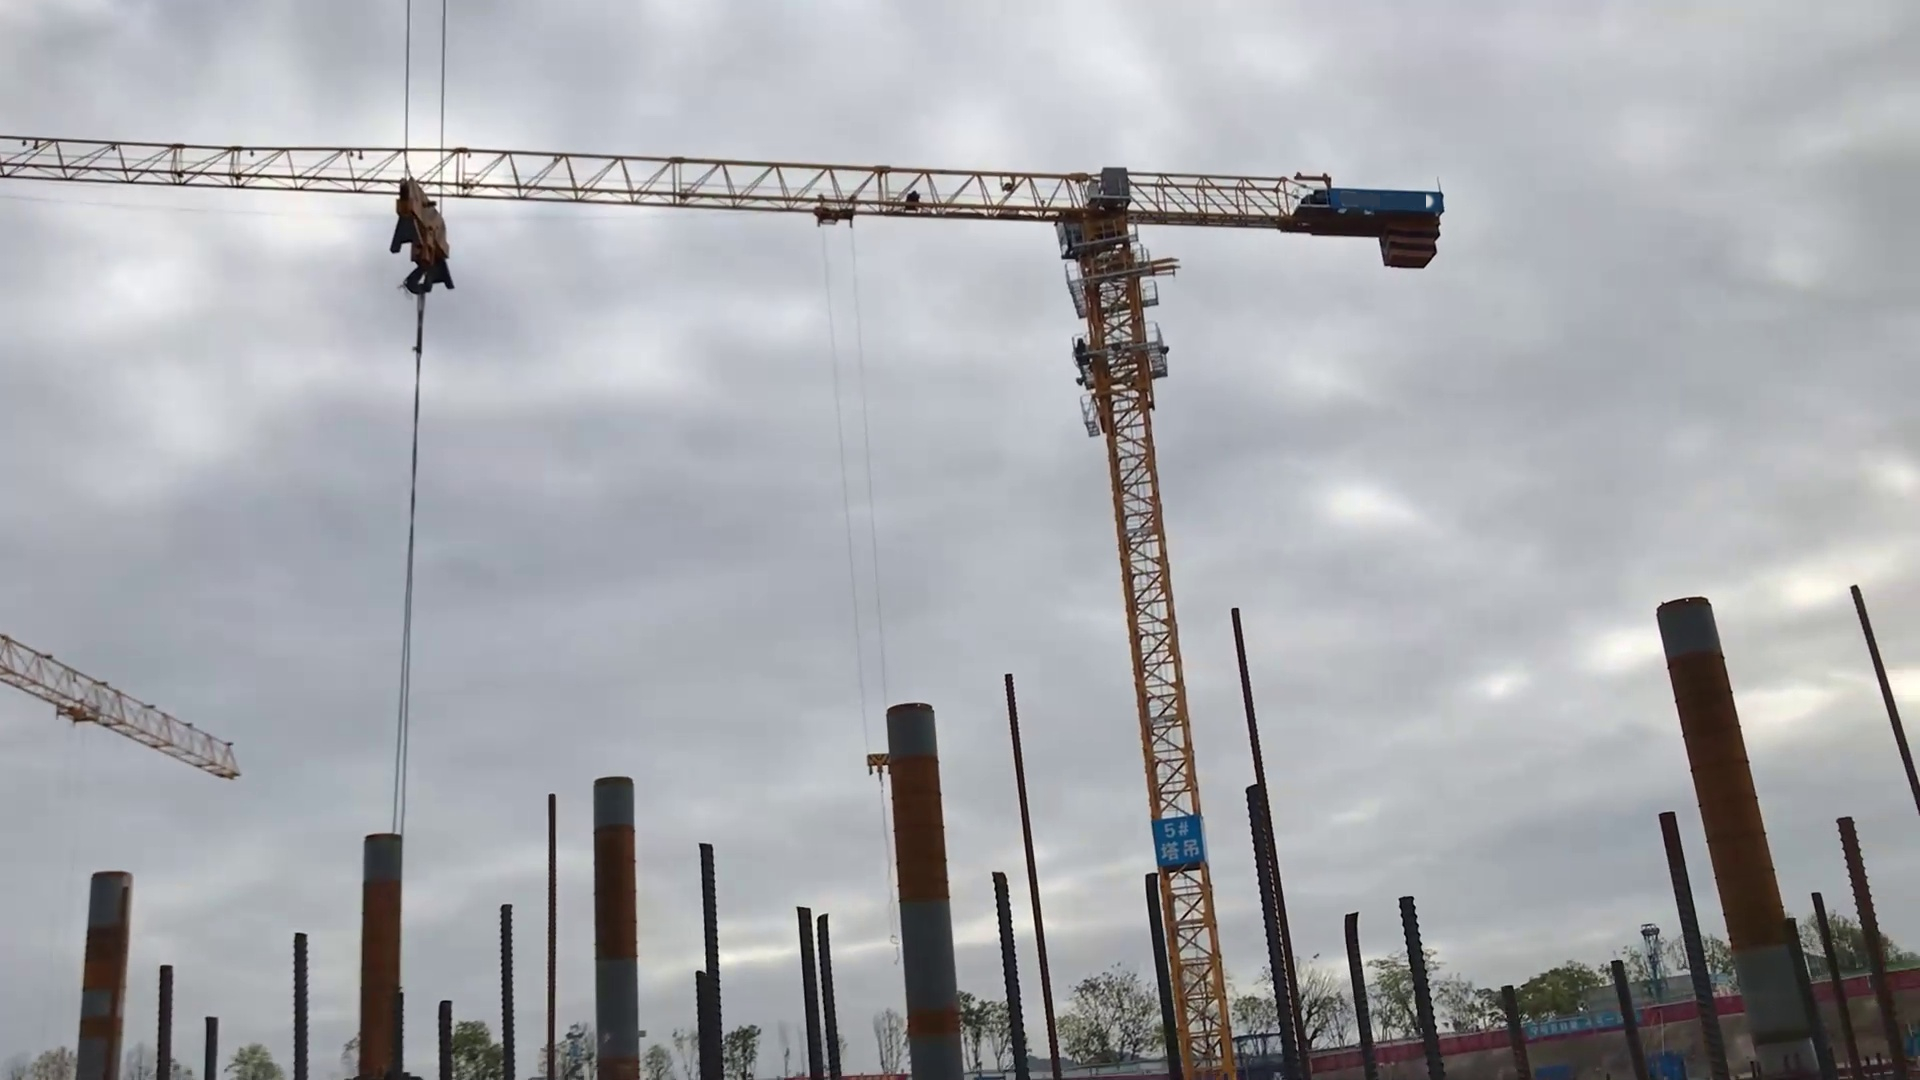hook: (365, 174, 476, 305), (862, 749, 894, 781)
slogan: (1147, 814, 1211, 872), (1527, 1015, 1647, 1039)
